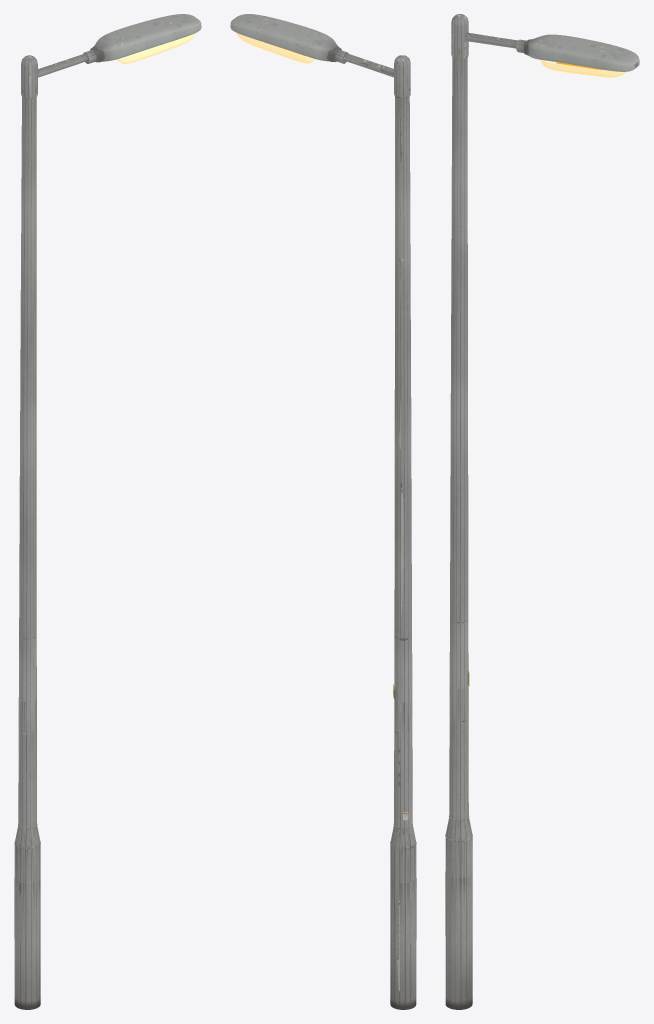
File: streetlight-warm-old-01.glb
3 views of the same model, side by side, from view 1: azimuth 30°, elevation 25°; view 2: azimuth 150°, elevation 25°; view 3: azimuth 330°, elevation 25° (orthographic). The views are drawn at different scales.
Visible parts, largest first — view 1: Pole_LOD0, LampHousing_LOD0, Arm_LOD0, LampGlass_LOD0, AccessPanel_LOD0; view 2: Pole_LOD0, LampHousing_LOD0, Arm_LOD0, LampGlass_LOD0, AccessPanel_LOD0; view 3: Pole_LOD0, LampHousing_LOD0, Arm_LOD0, LampGlass_LOD0.
Part boxes in pixels (x1,y1,x2,y2): Pole_LOD0: (14,97,40,1009); LampHousing_LOD0: (83,14,201,63); Arm_LOD0: (21,53,87,98); LampGlass_LOD0: (116,33,195,63); AccessPanel_LOD0: (14,878,21,943); Pole_LOD0: (390,96,416,1009); LampHousing_LOD0: (230,14,348,63); Arm_LOD0: (343,53,410,98); LampGlass_LOD0: (236,33,315,63); AccessPanel_LOD0: (409,878,416,943); Pole_LOD0: (445,57,472,1009); LampHousing_LOD0: (516,34,639,71); Arm_LOD0: (451,14,517,58); LampGlass_LOD0: (541,60,625,77).
Size of what is drawn, in the model's own units: 1.57 by 7.81 by 0.2624.
Materials: 4 (1 with a texture image).
